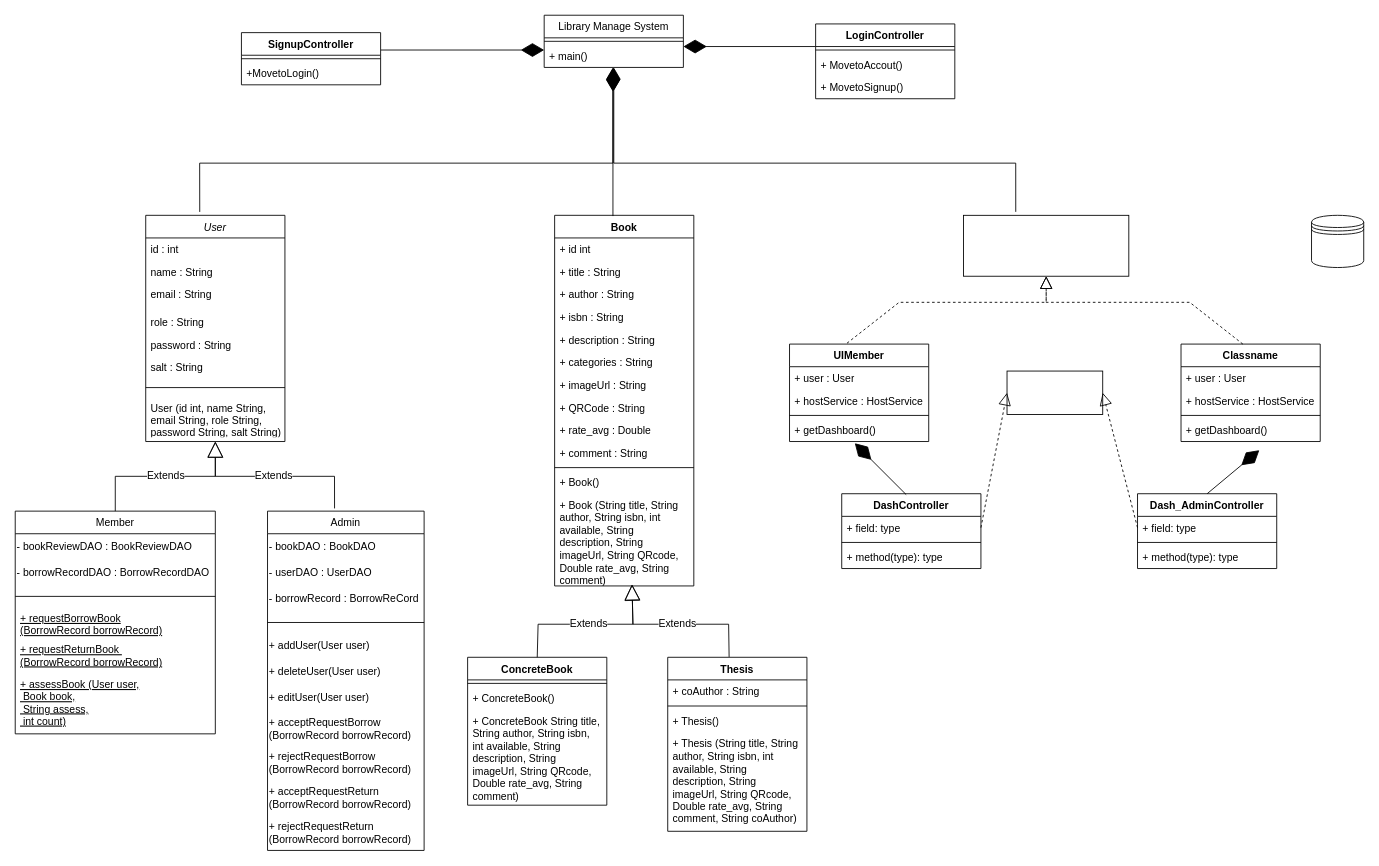
Image size: 1379x866. Some labels were removed from this diagram. The shapes that lost their labels are listed below. From the top down, each one's centre as x and y in pixels, then its label:
[1046,245]: <<Interface>> UIInterface + getDashboard()
[1054,392]: «interface» Initlizabe
